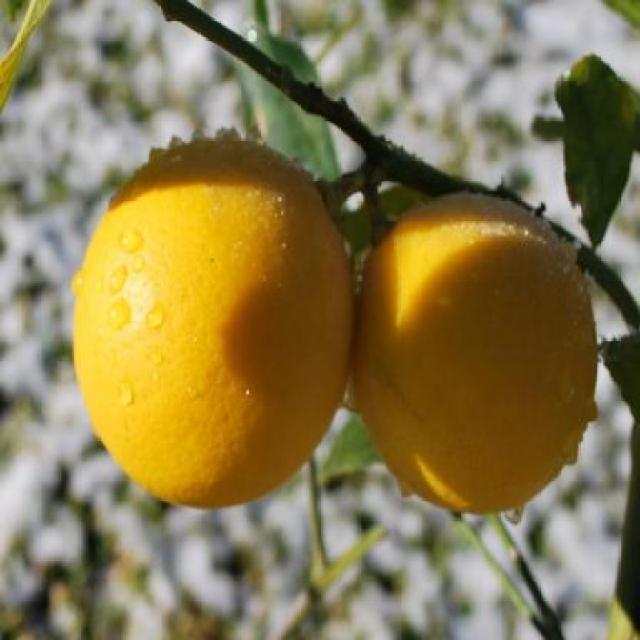Orange: (68, 126, 356, 511), (348, 188, 607, 516)
